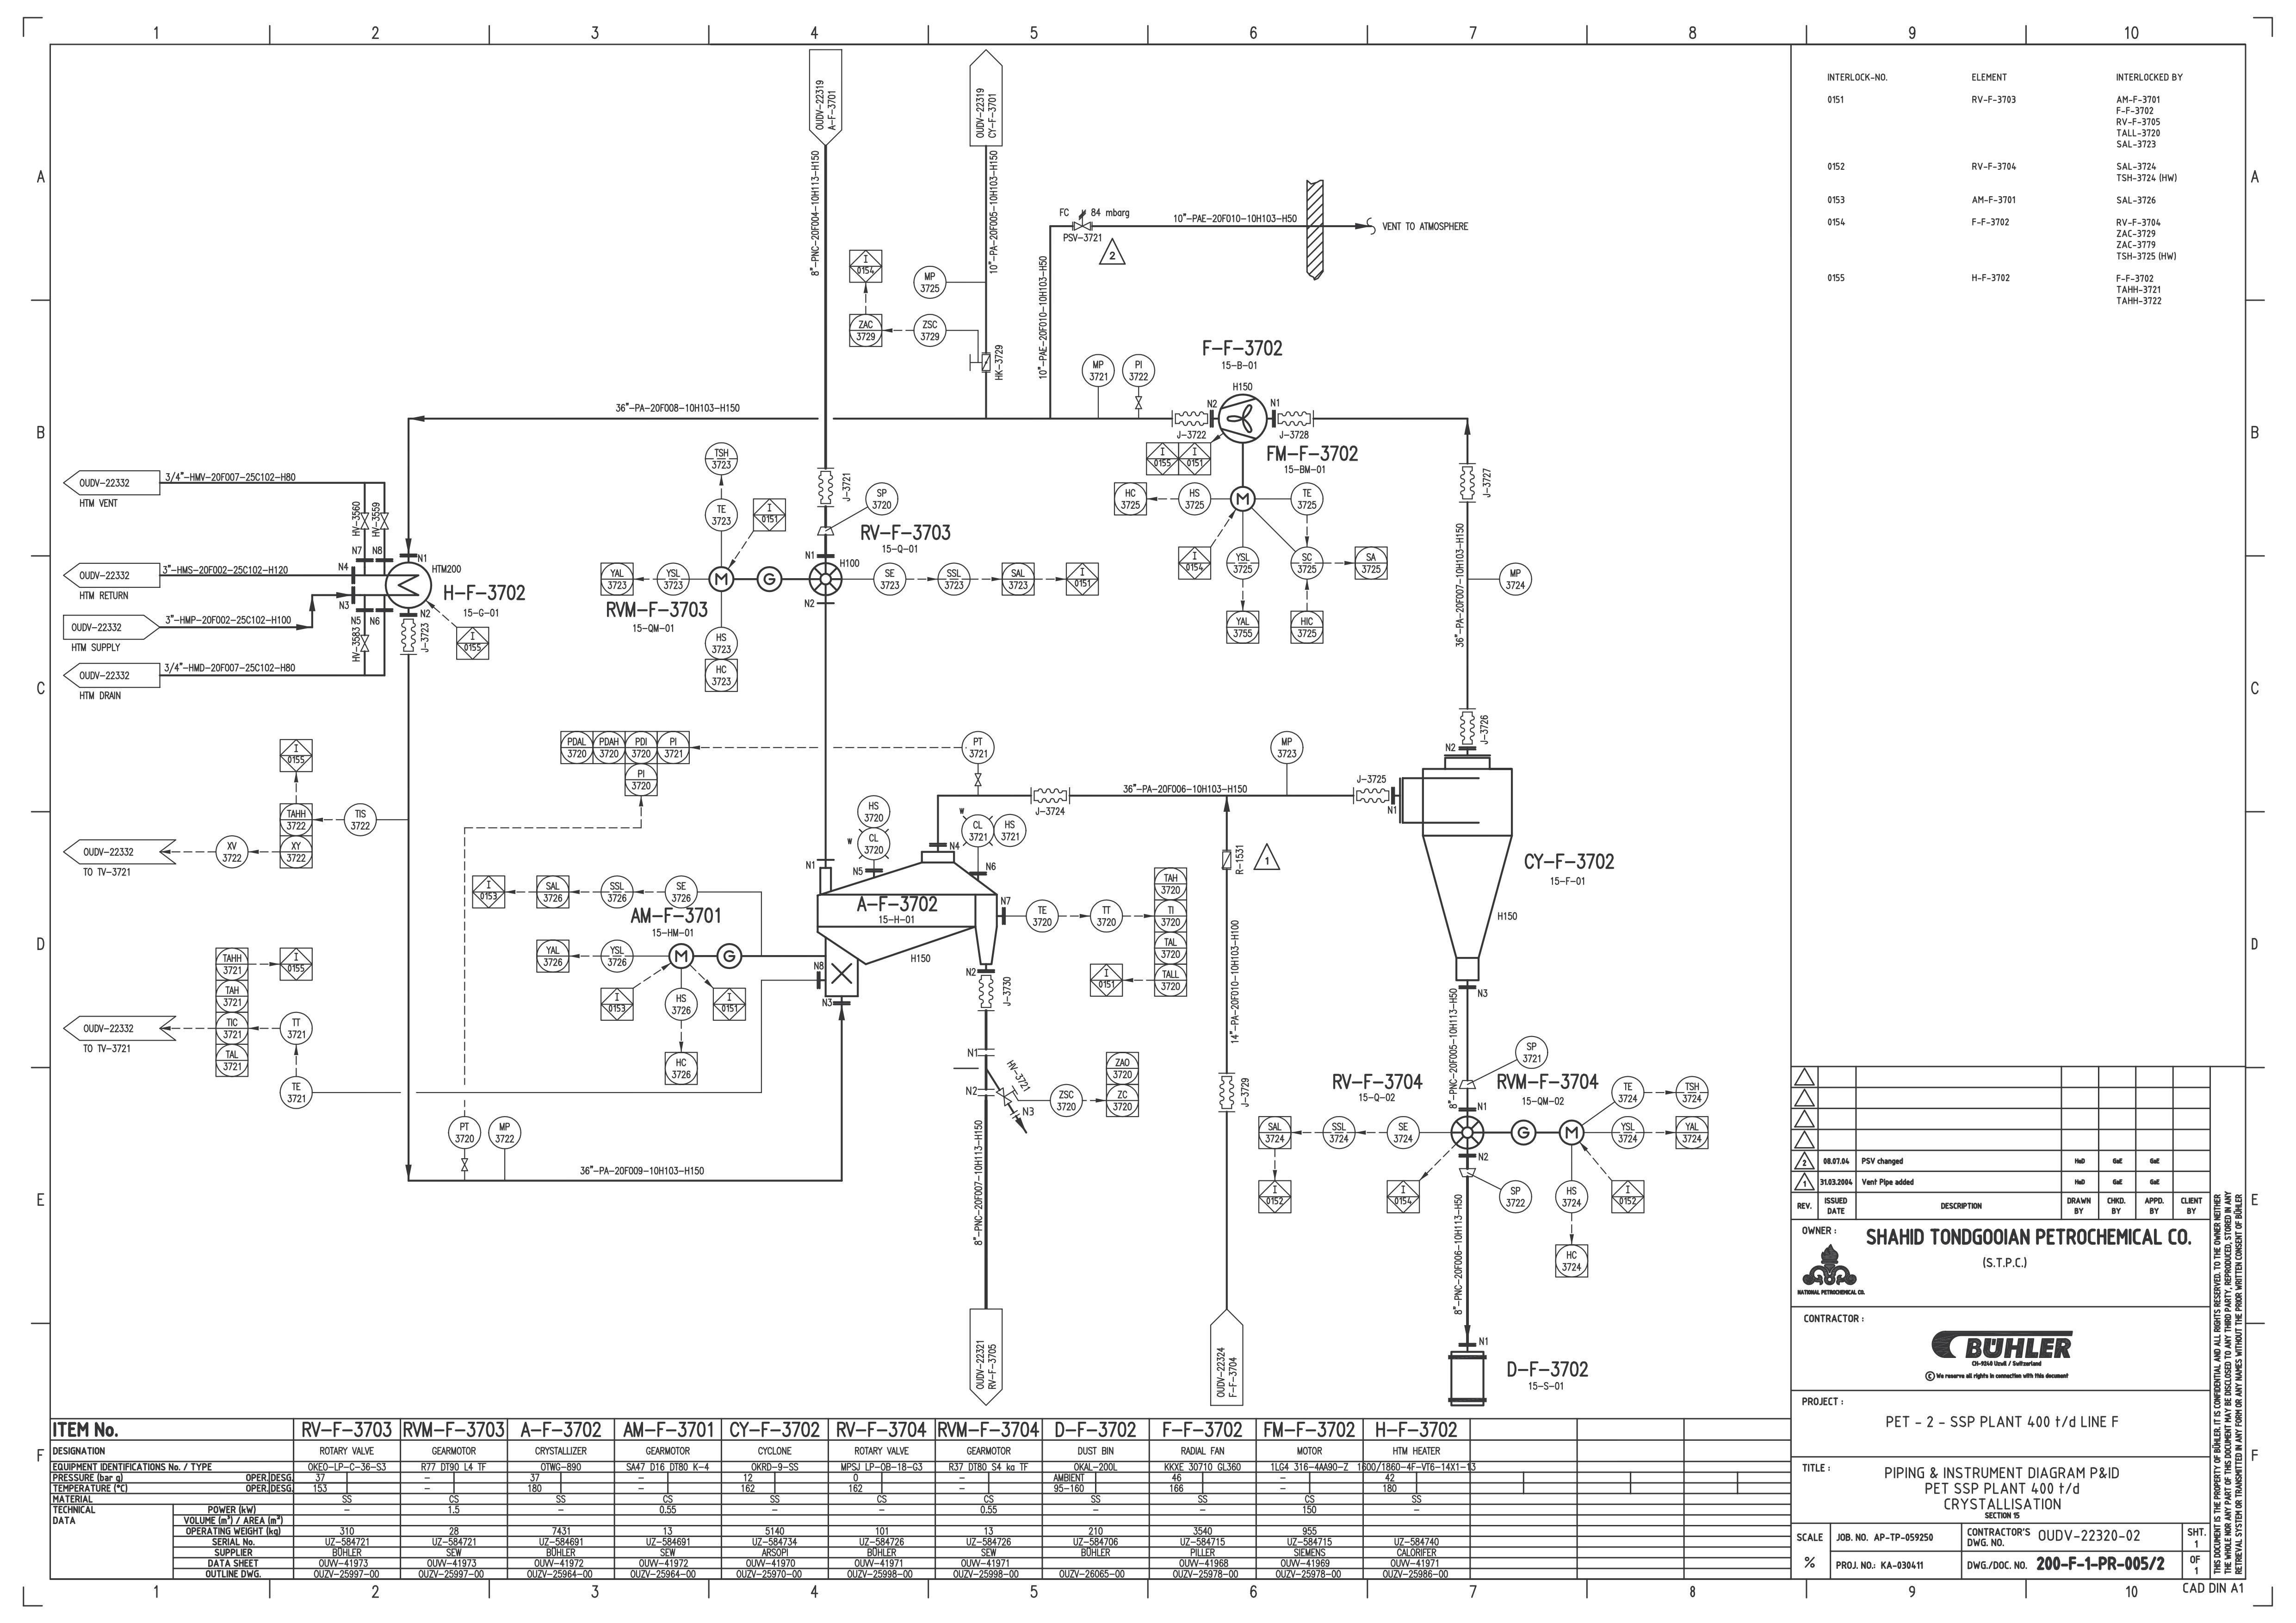A2: (813, 847, 1000, 999)
BV: (968, 350, 993, 374)
CV2: (1221, 848, 1233, 871)
CY: (1393, 750, 1520, 985)
D2: (1446, 1347, 1491, 1409)
EJ: (815, 465, 838, 509), (1028, 783, 1073, 804), (1217, 1070, 1238, 1115), (975, 971, 996, 1015), (1458, 458, 1477, 506), (1351, 785, 1393, 806), (1274, 408, 1316, 429), (1170, 408, 1212, 429), (399, 615, 418, 657), (1458, 706, 1477, 748)
F: (1217, 392, 1267, 446)
GV: (379, 511, 390, 530), (360, 632, 369, 655), (1133, 393, 1144, 411), (360, 511, 369, 530), (973, 771, 984, 787), (460, 1158, 469, 1173)
HE: (386, 560, 432, 610)
HV: (1070, 207, 1094, 234), (994, 1084, 1019, 1108)
M: (1228, 483, 1258, 516)
RV1: (806, 560, 847, 597), (1449, 1114, 1486, 1151)
RVM: (708, 560, 783, 595), (666, 941, 747, 973), (1509, 1117, 1586, 1149)
SP: (815, 523, 838, 539), (1458, 1075, 1477, 1091), (1458, 1166, 1477, 1179)
